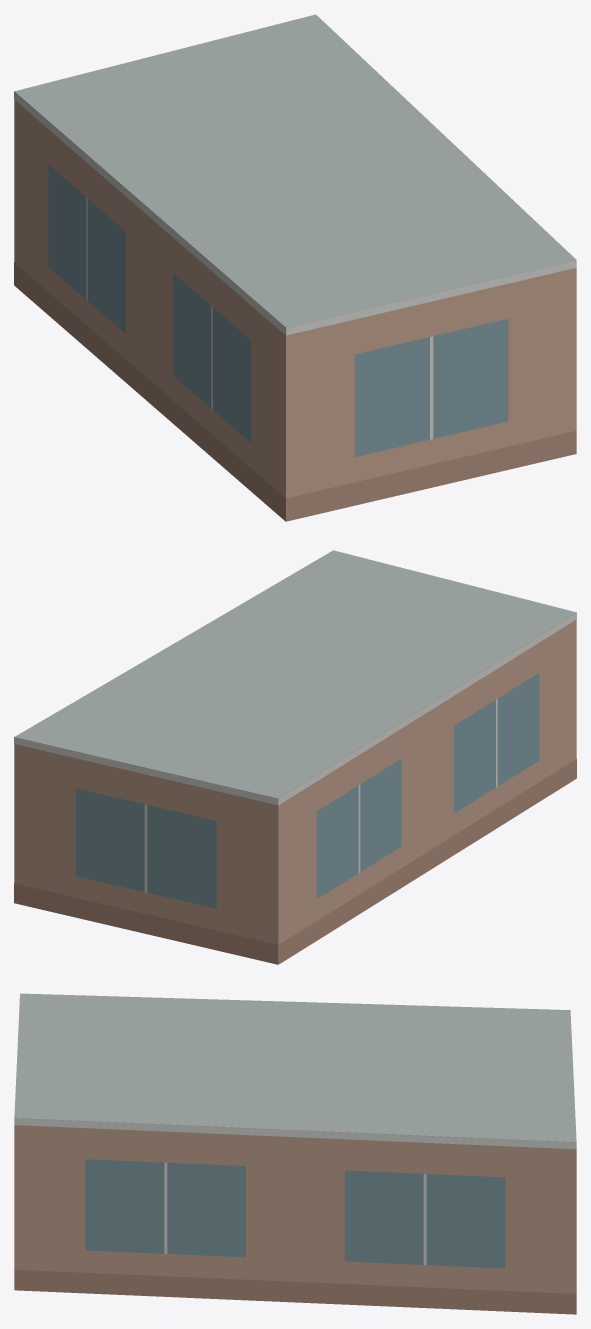
File: survey-upis-32644384.glb
3 views of the same model, one above another, from view 1: azimuth 30°, elevation 25°; view 2: azimuth 150°, elevation 25°; view 3: azimuth 270°, elevation 25° (orthographic). The views are drawn at different scales.
Visible parts, largest first — view 1: survey-upis-32644384.tmp; view 2: survey-upis-32644384.tmp; view 3: survey-upis-32644384.tmp.
Boxes of the visible parts, box(x1,y1,x2,y2) form: survey-upis-32644384.tmp: box(14, 14, 576, 521); survey-upis-32644384.tmp: box(14, 550, 576, 964); survey-upis-32644384.tmp: box(14, 993, 576, 1314).
Bounding box in the file's own units: 5.66 × 3.05 × 9.04.
